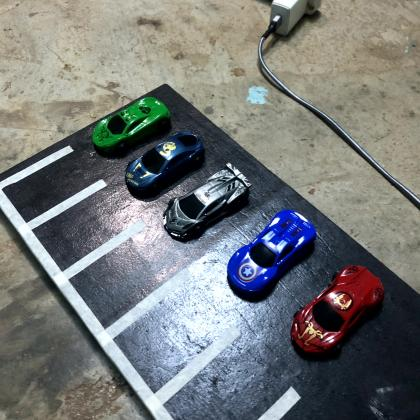Car: (290, 264, 385, 354), (226, 208, 315, 293), (164, 161, 252, 239), (125, 129, 204, 192), (92, 96, 172, 148)
